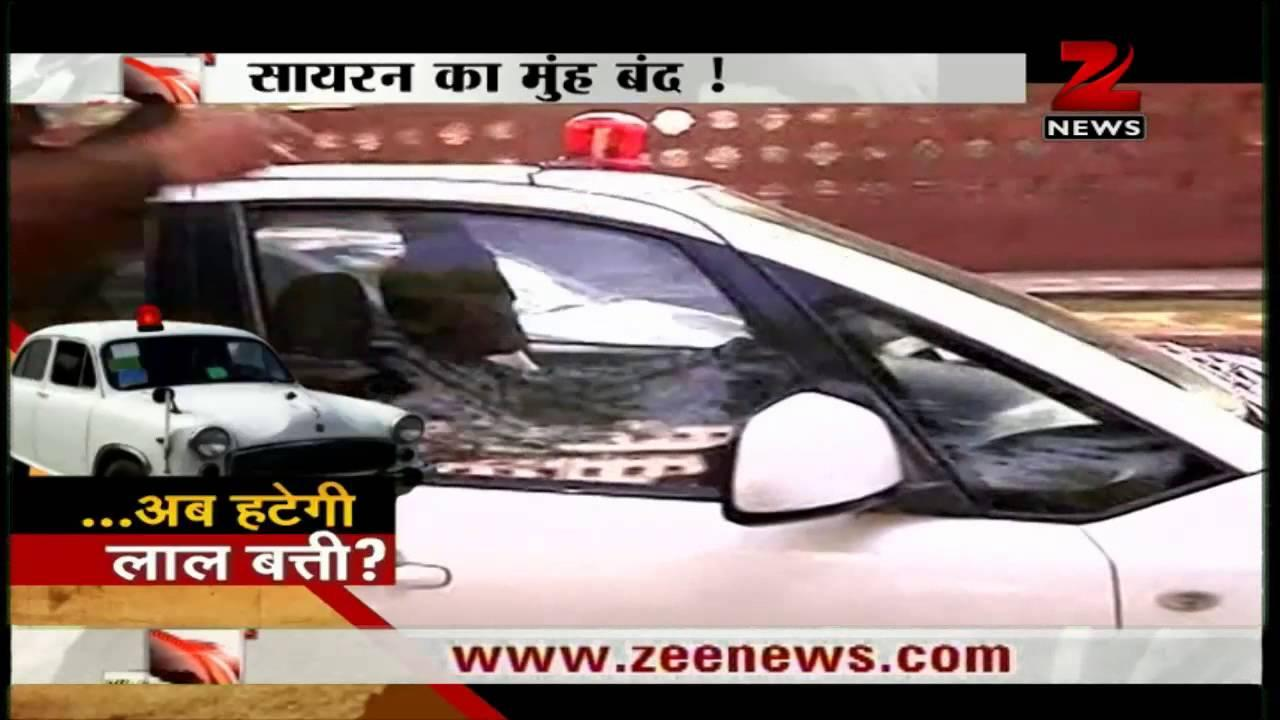Emergency-Vehicles: (13, 299, 424, 494)
